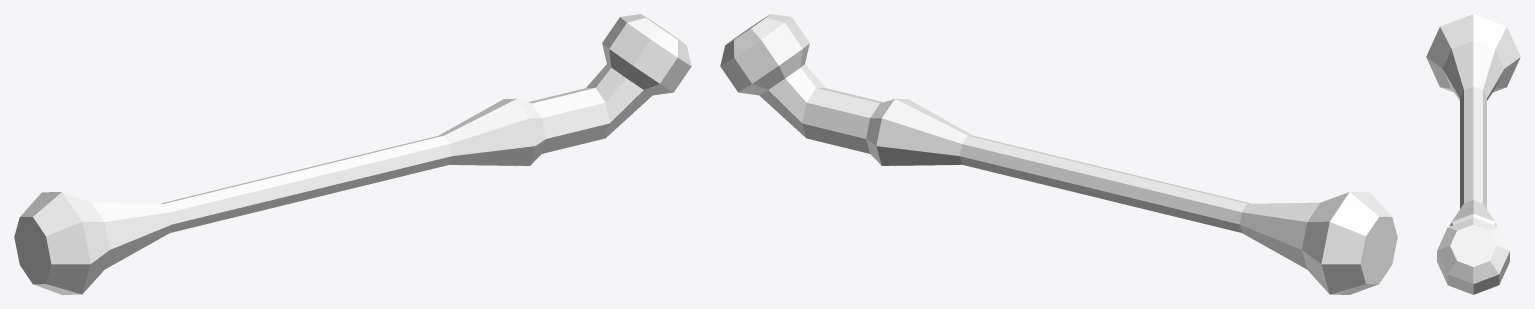
Rendered from bone1.obj.
3 views of the same model, side by side, from view 1: azimuth 30°, elevation 25°; view 2: azimuth 150°, elevation 25°; view 3: azimuth 270°, elevation 25° (orthographic). The views are drawn at different scales.
Visible parts, largest first — view 1: Cylinder; view 2: Cylinder; view 3: Cylinder.
Boxes of the visible parts, x1,y1,x2,y2 form: Cylinder: (14,14,691,294); Cylinder: (720,14,1397,294); Cylinder: (1426,14,1520,294).
Bounding box in the file's own units: 20.24 × 4 × 3.06.
